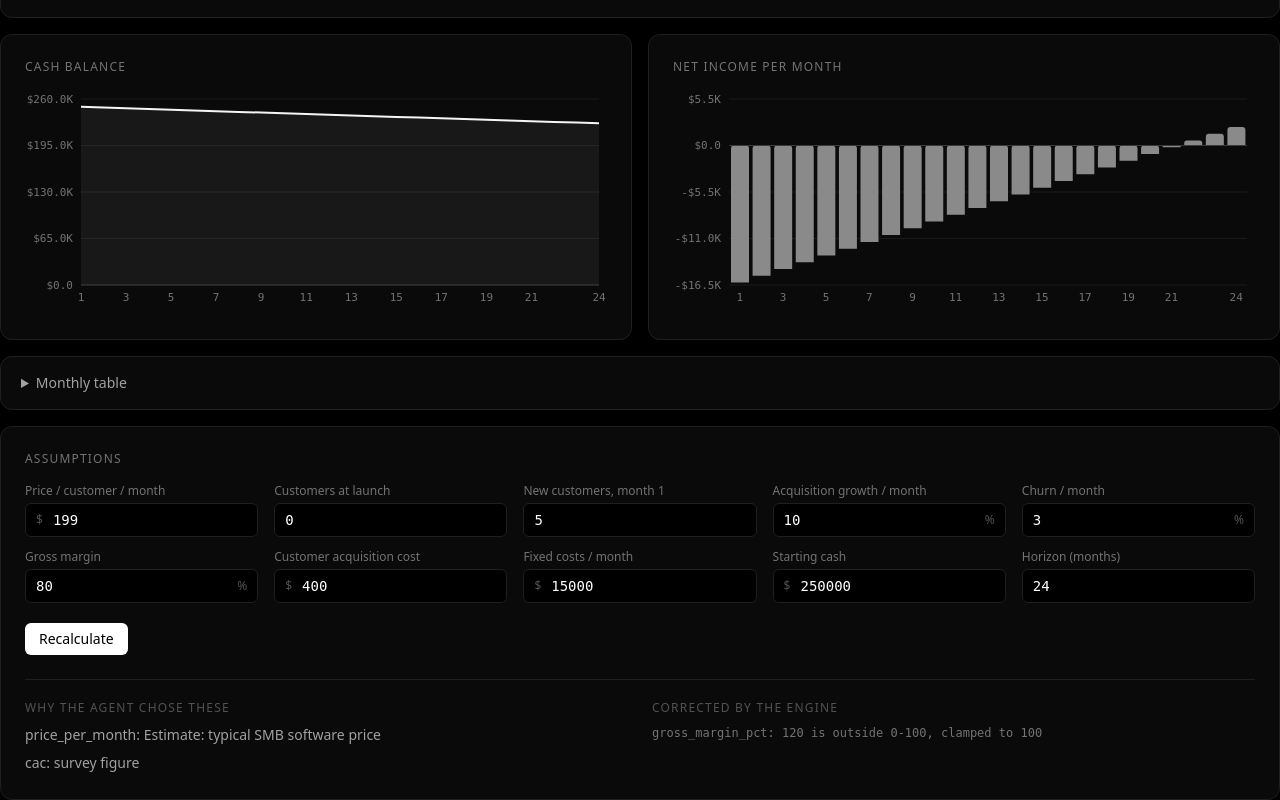
Test: FinancePanel › shows backend errors
This screenshot has width=1280, height=800.
(page scrolled)
Click the button "Recalculate": (76, 638) [25,622,128,654]
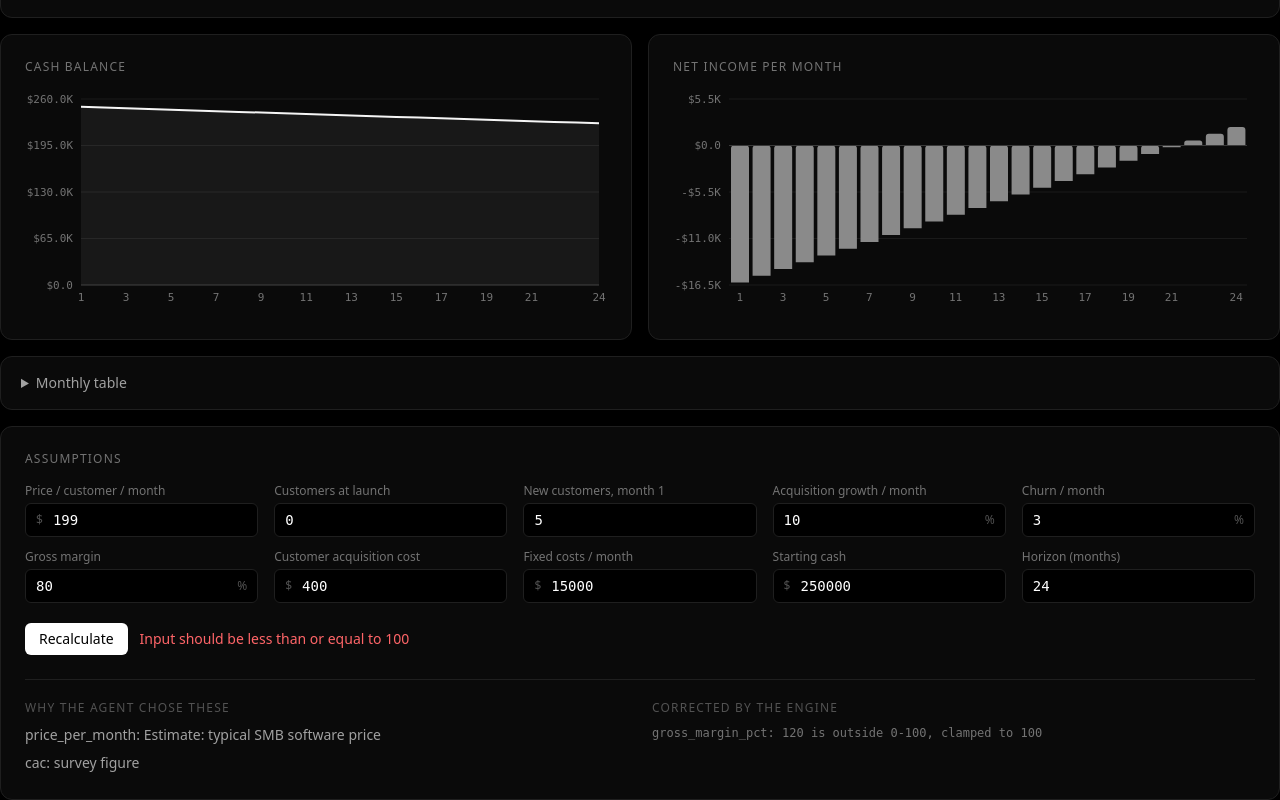
Expected: the message shows "less than or equal to 100", [140,628,409,648]
